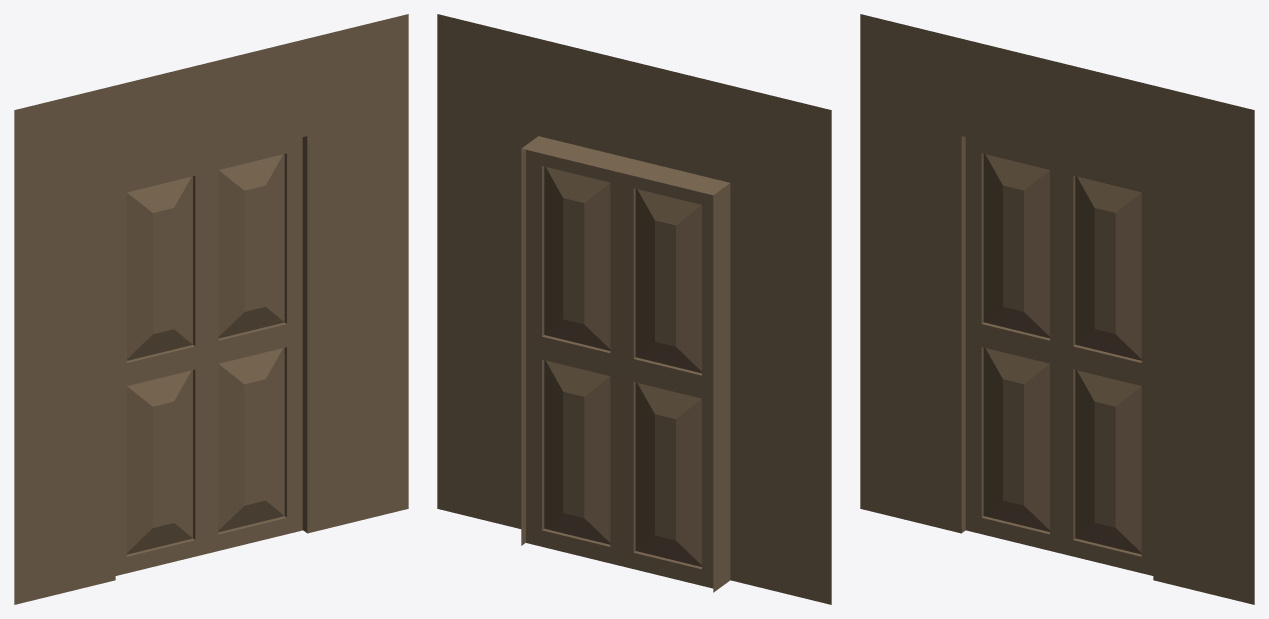
Rendered from 2x2,4_doorway.FBX.
3 views of the same model, side by side, from view 1: azimuth 30°, elevation 25°; view 2: azimuth 150°, elevation 25°; view 3: azimuth 330°, elevation 25° (orthographic).
Visible parts, largest first — view 1: wall, door; view 2: wall, door; view 3: wall, door.
Boxes of the visible parts, x1,y1,x2,y2 form: wall: [14, 14, 408, 604]; door: [115, 137, 302, 575]; wall: [437, 14, 831, 604]; door: [526, 149, 724, 588]; wall: [860, 14, 1254, 604]; door: [965, 137, 1153, 575].
Size of the model in its own units: 200 by 240 by 15.
